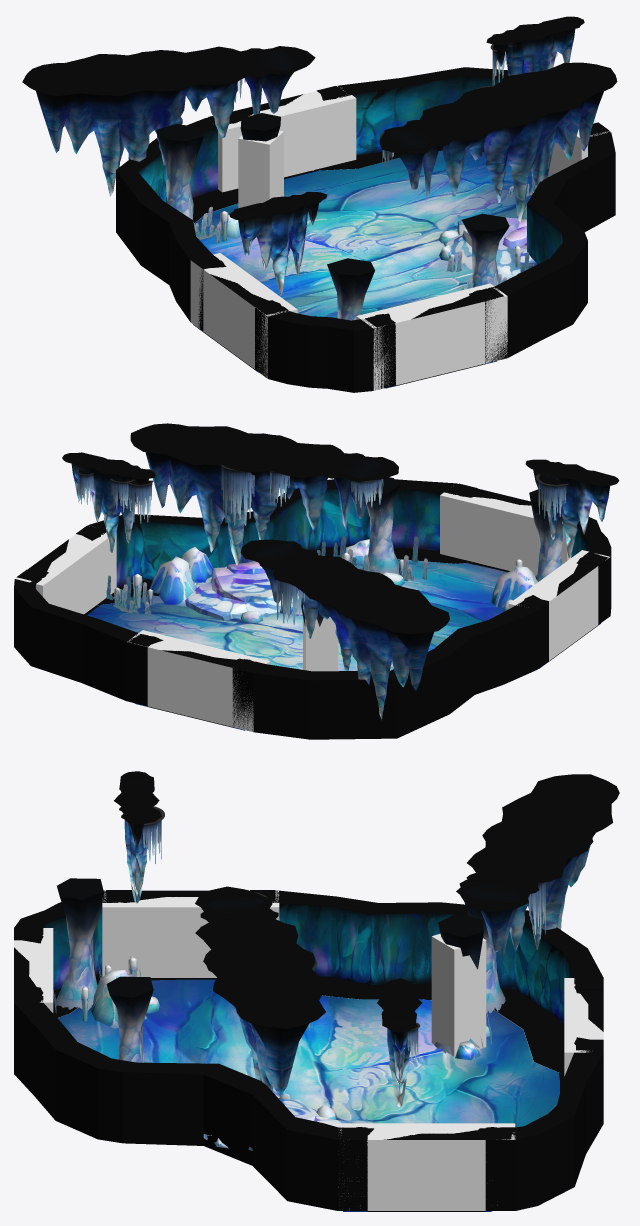
Rendered from Dungeon_072_QuestBossRoom.fbx.
3 views of the same model, one above another, from view 1: azimuth 30°, elevation 25°; view 2: azimuth 150°, elevation 25°; view 3: azimuth 270°, elevation 25° (orthographic). The views are drawn at different scales.
Parts seen in each view (by area): view 1: Dun_072_Room_003_top, Dun_072_Room_003_wall, Dun_072_Room_003_ground, DoorWay_NavMask (3) (×4), Dun_072_OB_Pillar, DoorWay_NavMask (1), Dun_072_Door_002 (×3), cube_061_pillar, Dun_072_OB_Big_stone, Dun_072_Room_003_shadow, Dun_072_OB_Ice_crystals02, Dun_072_OB_Icicle; view 2: Dun_072_Room_003_wall, Dun_072_Room_003_top, DoorWay_NavMask (3) (×4), Dun_072_Room_003_ground, Dun_072_OB_Icicle, DoorWay_NavMask (1) (×2), Dun_072_OB_Pillar, Dun_072_OB_Big_stone, Dun_072_OB_Stone02, Dun_072_Door_002 (×4), Dun_072_OB_Ice_crystals02, cube_061_pillar (+3 smaller); view 3: Dun_072_Room_003_wall, Dun_072_Room_003_top, Dun_072_Room_003_ground, DoorWay_NavMask (3) (×4), Dun_072_OB_Pillar, DoorWay_NavMask (1) (×2), cube_061_pillar, Dun_072_Door_002 (×4), Dun_072_Room_003_shadow, Dun_072_OB_Icicle, Dun_072_OB_Stone02, Dun_072_OB_Stone01 (+1 smaller).
Boxes of the visible parts, x1,y1,x2,y2 form: Dun_072_Room_003_top: (22, 16, 617, 295); Dun_072_Room_003_wall: (116, 67, 615, 392); Dun_072_Room_003_ground: (193, 150, 532, 388); DoorWay_NavMask (3) (×4): (190, 86, 610, 390); Dun_072_OB_Pillar: (156, 113, 509, 320); DoorWay_NavMask (1): (382, 291, 484, 384); Dun_072_Door_002 (×3): (193, 86, 503, 385); cube_061_pillar: (238, 130, 283, 208); Dun_072_OB_Big_stone: (443, 217, 536, 280); Dun_072_Room_003_shadow: (192, 146, 484, 222); Dun_072_OB_Ice_crystals02: (194, 173, 553, 290); Dun_072_OB_Icicle: (234, 44, 557, 169); Dun_072_Room_003_wall: (14, 479, 611, 739); Dun_072_Room_003_top: (62, 423, 619, 720); DoorWay_NavMask (3) (×4): (15, 492, 609, 731); Dun_072_Room_003_ground: (87, 559, 600, 730); Dun_072_OB_Icicle: (77, 465, 568, 624); DoorWay_NavMask (1) (×2): (147, 566, 598, 726); Dun_072_OB_Pillar: (301, 477, 562, 626); Dun_072_OB_Big_stone: (185, 561, 298, 620); Dun_072_OB_Stone02: (149, 539, 537, 607); Dun_072_Door_002 (×4): (16, 483, 608, 727); Dun_072_OB_Ice_crystals02: (106, 536, 538, 615); cube_061_pillar: (303, 617, 338, 671); Dun_072_Room_003_wall: (14, 890, 603, 1210); Dun_072_Room_003_top: (114, 771, 619, 1107); Dun_072_Room_003_ground: (57, 979, 559, 1211); DoorWay_NavMask (3) (×4): (14, 891, 589, 1210); Dun_072_OB_Pillar: (55, 878, 505, 1062); DoorWay_NavMask (1) (×2): (367, 990, 603, 1210); cube_061_pillar: (431, 933, 486, 1056); Dun_072_Door_002 (×4): (14, 890, 603, 1211); Dun_072_Room_003_shadow: (53, 973, 564, 1113); Dun_072_OB_Icicle: (142, 806, 545, 1064); Dun_072_OB_Stone02: (90, 970, 491, 1150); Dun_072_OB_Stone01: (146, 996, 480, 1119).
Size of what is drawn, in the model's own units: 16.46 by 5.05 by 15.57.
